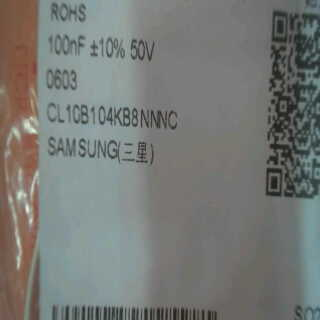100nF: (44, 28, 89, 62)
